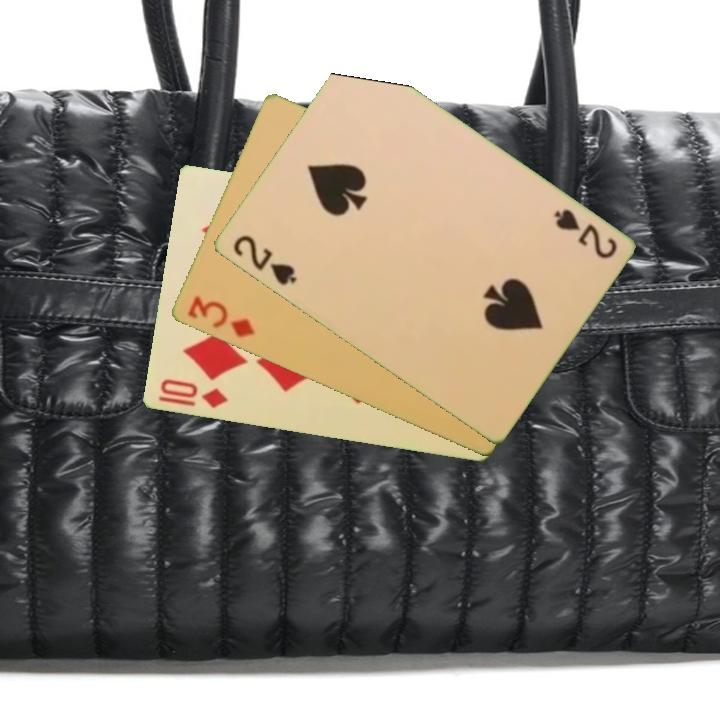10d: (156, 375, 231, 411)
2s: (228, 231, 300, 289), (549, 205, 620, 262)
3d: (183, 292, 257, 341)
